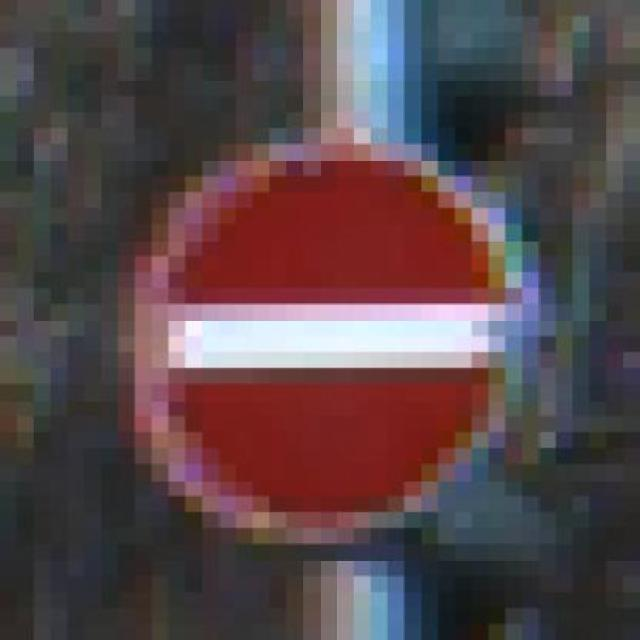B2: (123, 138, 542, 544)
